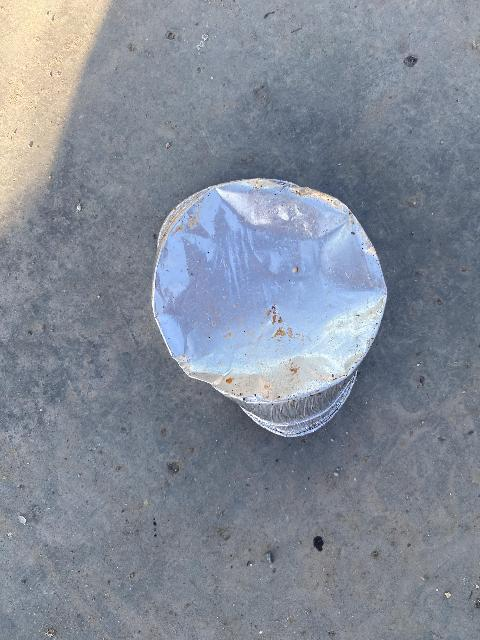Plastik: (149, 175, 390, 446)
